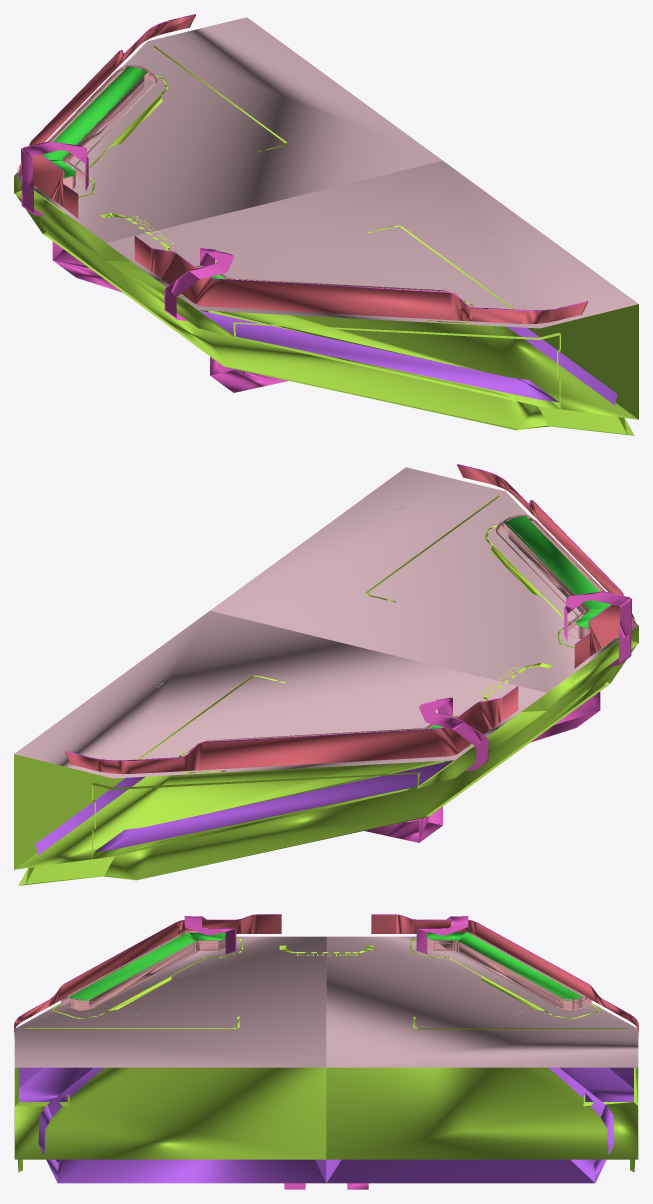
The model's file is plate_trim_32m_a_balcony_transit.glb.
3 views of the same model, one above another, from view 1: azimuth 30°, elevation 25°; view 2: azimuth 150°, elevation 25°; view 3: azimuth 270°, elevation 25° (orthographic). The views are drawn at different scales.
Bounding box in the file's own units: 14.2 × 7.48 × 27.87.
